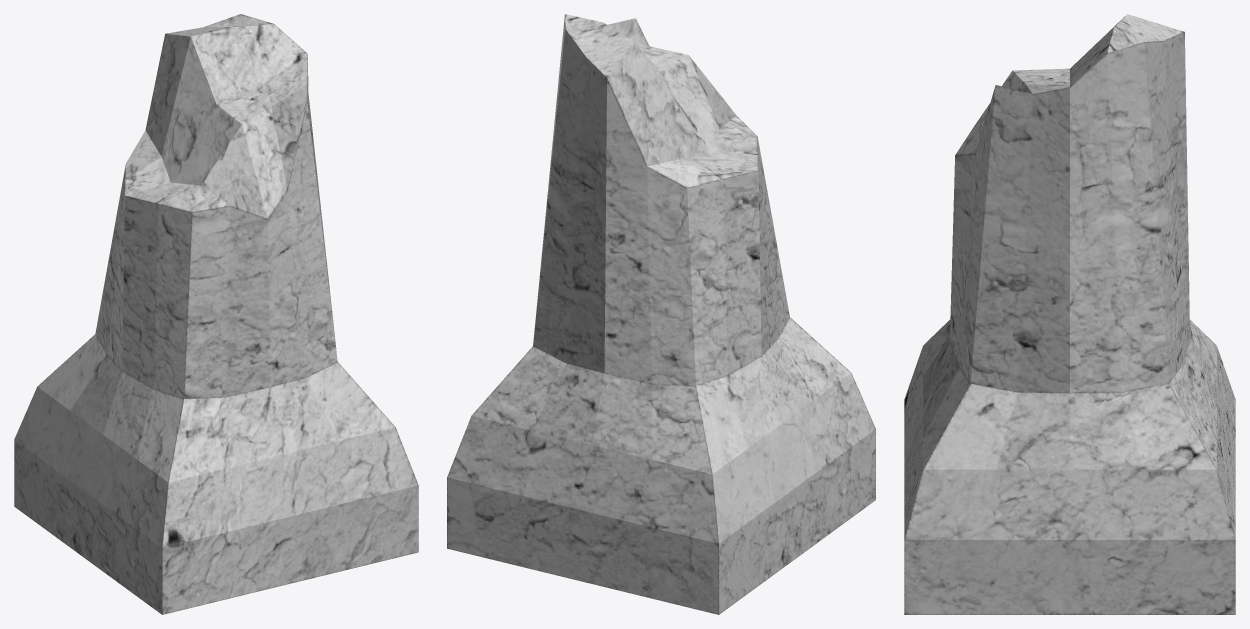
File: col2.fbx
3 renders of one model, left to right at view 1: azimuth 30°, elevation 25°; view 2: azimuth 150°, elevation 25°; view 3: azimuth 270°, elevation 25°, orthographic. The views are drawn at different scales.
Parts seen in each view (by area): view 1: pCube9; view 2: pCube9; view 3: pCube9.
Boxes of the visible parts, x1,y1,x2,y2 form: pCube9: (14, 14, 418, 614); pCube9: (447, 14, 875, 614); pCube9: (904, 14, 1235, 614).
Bounding box in the file's own units: 64.67 × 115 × 64.67.
1 material, 1 textured.
